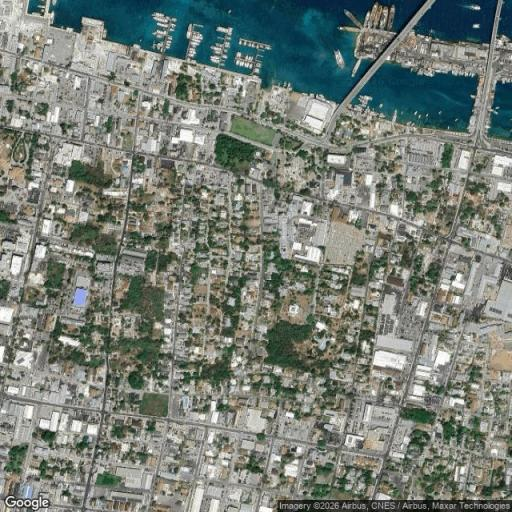ship: (239, 38, 271, 50), (344, 9, 362, 27), (368, 3, 378, 28), (386, 4, 395, 31), (378, 6, 388, 30), (374, 5, 383, 28), (335, 50, 344, 68), (352, 59, 361, 76), (216, 26, 232, 35), (152, 30, 167, 38), (359, 94, 375, 101), (153, 12, 167, 19), (364, 11, 370, 27), (357, 98, 370, 105), (226, 5, 234, 16), (192, 32, 204, 39), (210, 45, 222, 52), (467, 4, 480, 10), (191, 37, 202, 44), (187, 24, 192, 39), (50, 10, 55, 25), (157, 22, 168, 28), (213, 42, 224, 48), (392, 110, 397, 123), (211, 55, 219, 63), (134, 42, 142, 50), (193, 35, 203, 41), (190, 40, 200, 46), (255, 62, 264, 68), (378, 101, 384, 110), (470, 91, 476, 100), (103, 26, 107, 39), (188, 51, 198, 56), (213, 49, 221, 55), (187, 53, 196, 58), (36, 4, 45, 9), (31, 12, 42, 16), (169, 23, 175, 30), (236, 51, 242, 58), (52, 0, 58, 7), (412, 110, 419, 116), (438, 109, 444, 116), (189, 47, 197, 52), (224, 44, 232, 49), (446, 123, 451, 131), (454, 115, 458, 125), (235, 59, 240, 66), (425, 112, 430, 119), (472, 24, 479, 28), (222, 55, 229, 59), (239, 60, 243, 67), (241, 60, 245, 67), (244, 61, 248, 68), (417, 114, 422, 119), (167, 37, 173, 41), (167, 40, 173, 44), (226, 36, 232, 40), (246, 62, 250, 68), (249, 64, 253, 70), (165, 46, 170, 50), (251, 55, 254, 61), (248, 55, 251, 60), (246, 54, 248, 60)
